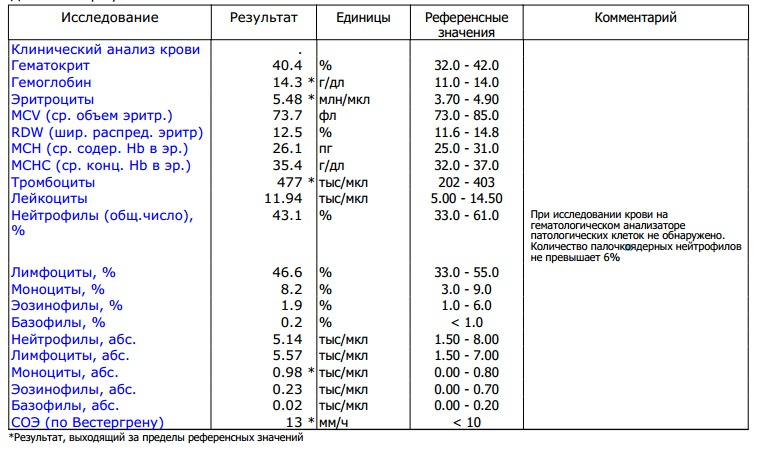column: (529, 5, 743, 429), (10, 5, 203, 429), (229, 5, 315, 429), (424, 5, 509, 429), (318, 5, 391, 429)
